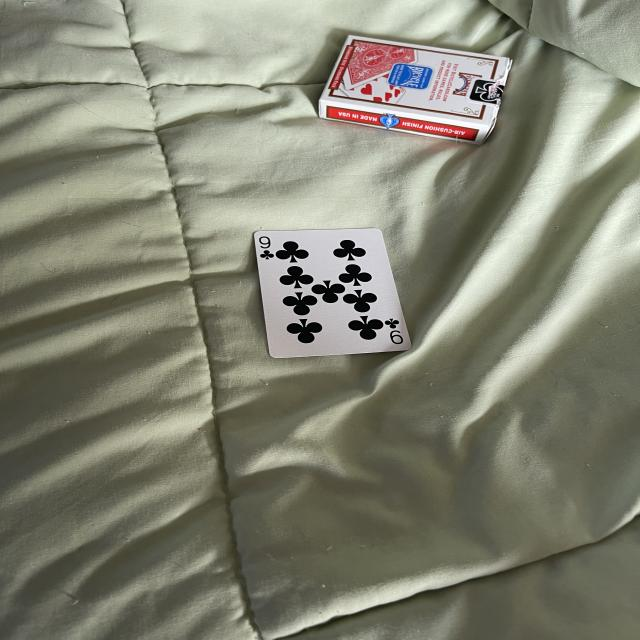9 of clubs: (180, 220, 407, 410), (244, 224, 408, 359)
